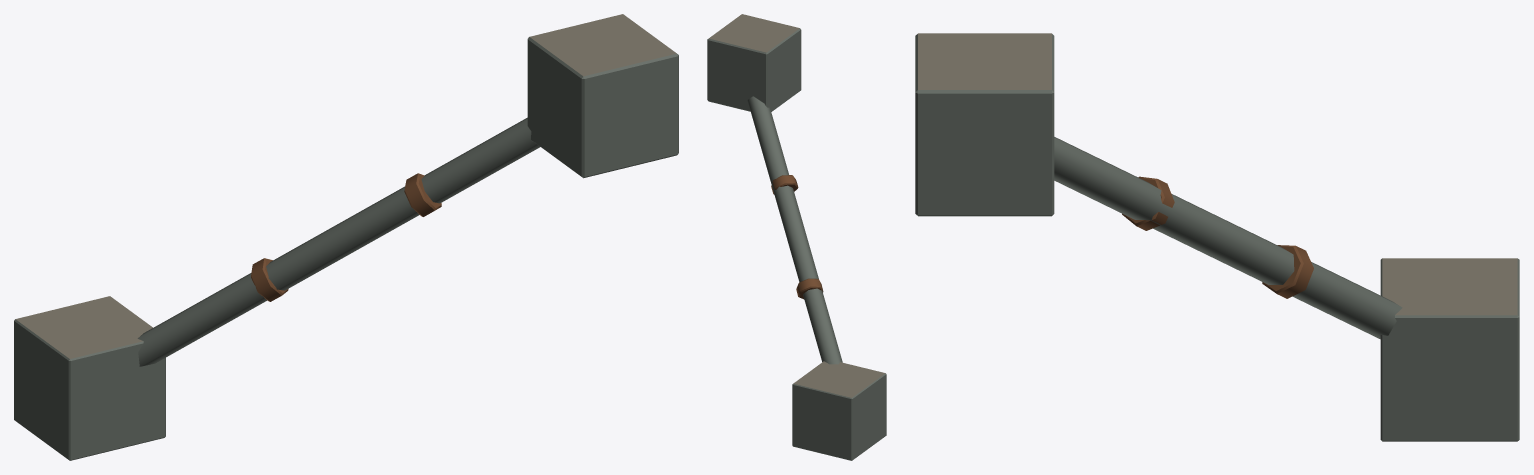
File: R4C_ROD_DIAG_3D_LOD1.fbx
3 views of the same model, side by side, from view 1: azimuth 30°, elevation 25°; view 2: azimuth 150°, elevation 25°; view 3: azimuth 270°, elevation 25° (orthographic). The views are drawn at different scales.
Visible parts, largest first — view 1: R4C_ROD_DIAG_3D_LOD1; view 2: R4C_ROD_DIAG_3D_LOD1; view 3: R4C_ROD_DIAG_3D_LOD1.
Part boxes in pixels (<box>): R4C_ROD_DIAG_3D_LOD1: <box>14,14,678,460</box>; R4C_ROD_DIAG_3D_LOD1: <box>707,14,886,460</box>; R4C_ROD_DIAG_3D_LOD1: <box>915,33,1519,441</box>.
Size of the model in its own units: 1.62 by 1.62 by 1.62.
